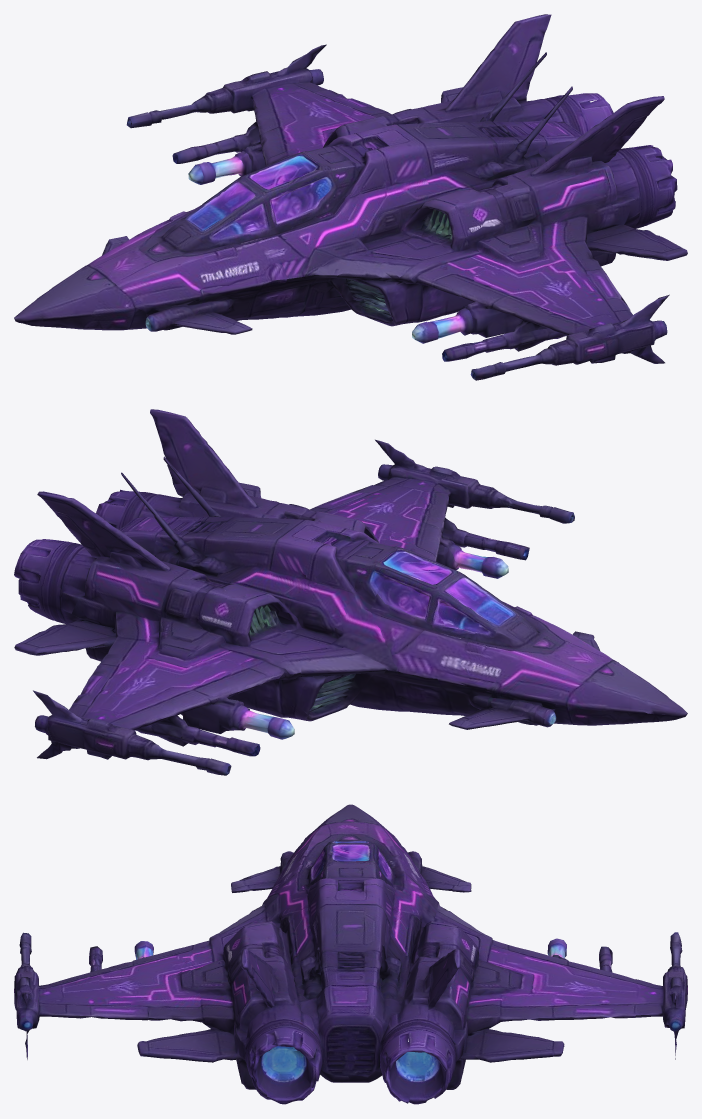
The model's file is matrix_fighter.glb.
3 renders of one model, top to bottom at view 1: azimuth 30°, elevation 25°; view 2: azimuth 150°, elevation 25°; view 3: azimuth 270°, elevation 25°, orthographic. The views are drawn at different scales.
Visible parts, largest first — view 1: model; view 2: model; view 3: model.
Part boxes in pixels (<box>): model: <box>14,14,687,380</box>; model: <box>14,409,687,775</box>; model: <box>14,804,687,1104</box>.
Bounding box in the file's own units: 0.9984 × 0.2604 × 0.9891.
1 material, 1 textured.
